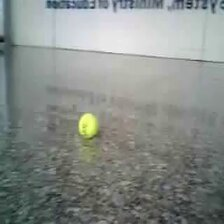tennis: (78, 113, 99, 139)
